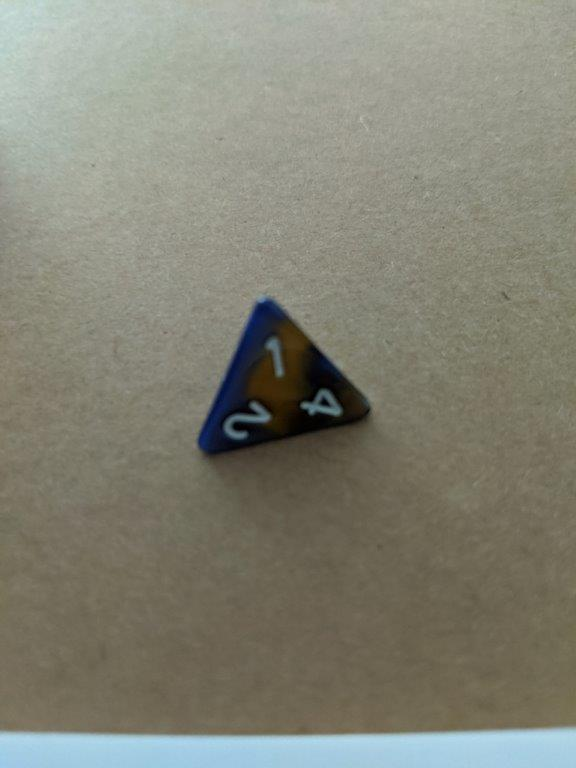d4-1: (192, 293, 373, 463)
